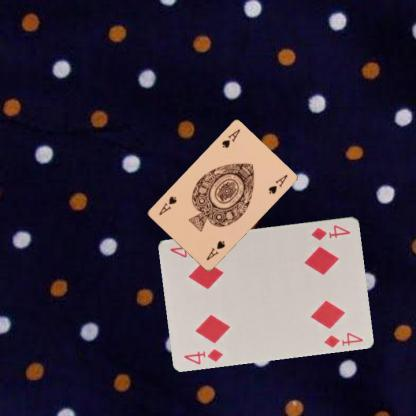4d: (181, 346, 225, 365), (309, 222, 351, 241)
As: (204, 238, 226, 262), (219, 126, 241, 150)
